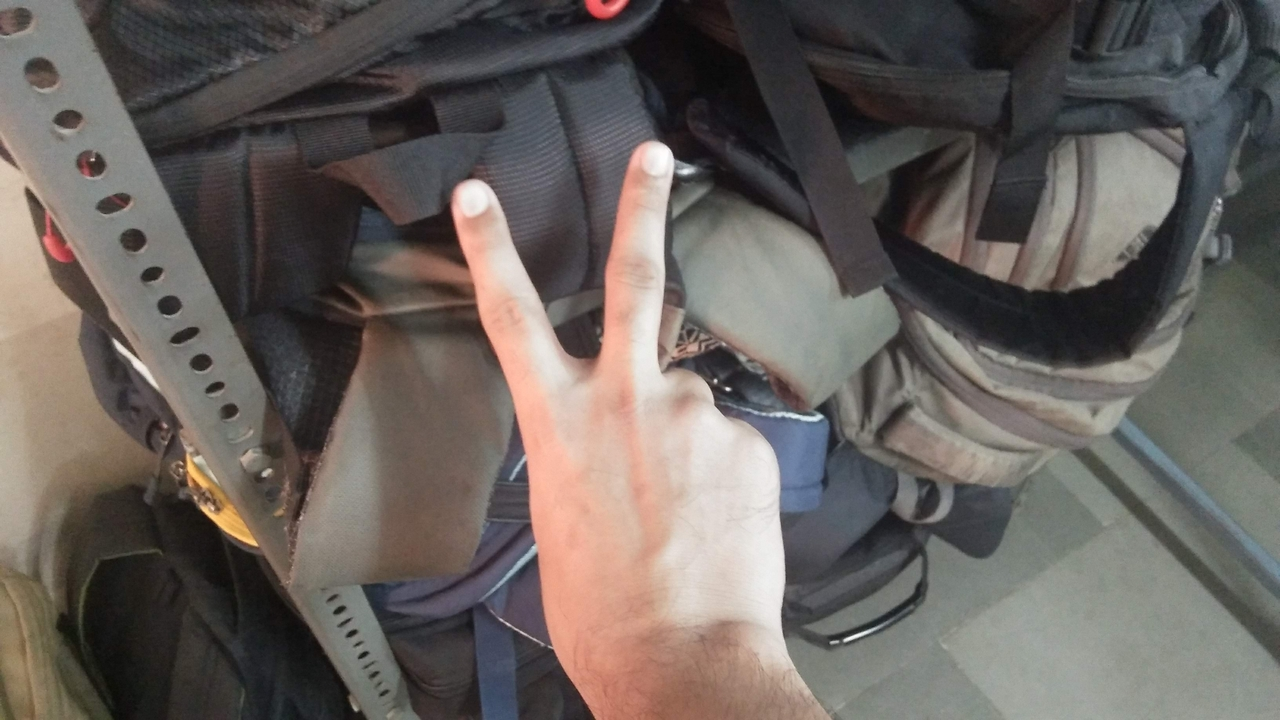fingertip: (436, 170, 510, 234), (616, 132, 682, 192)
